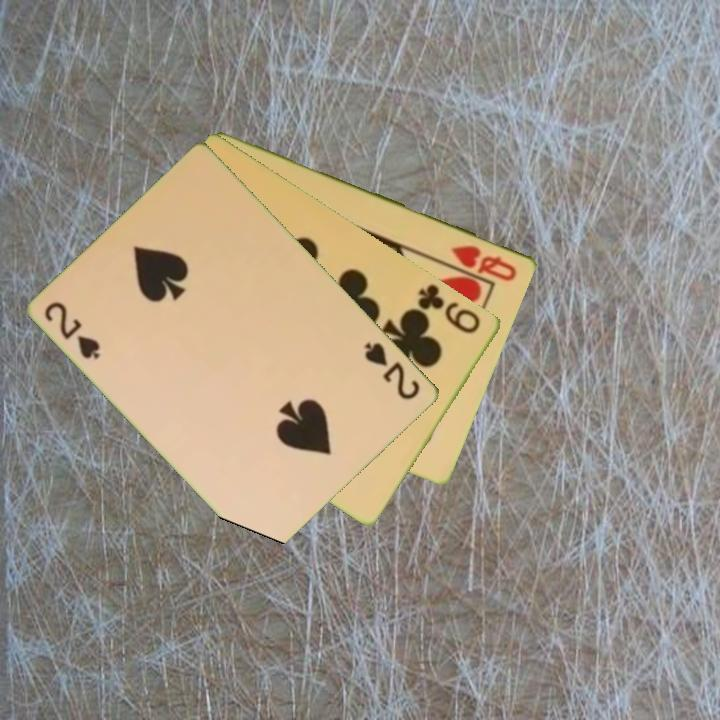2s: (361, 338, 424, 403), (41, 298, 104, 362)
9c: (414, 280, 484, 337)
Qh: (448, 241, 521, 284)
